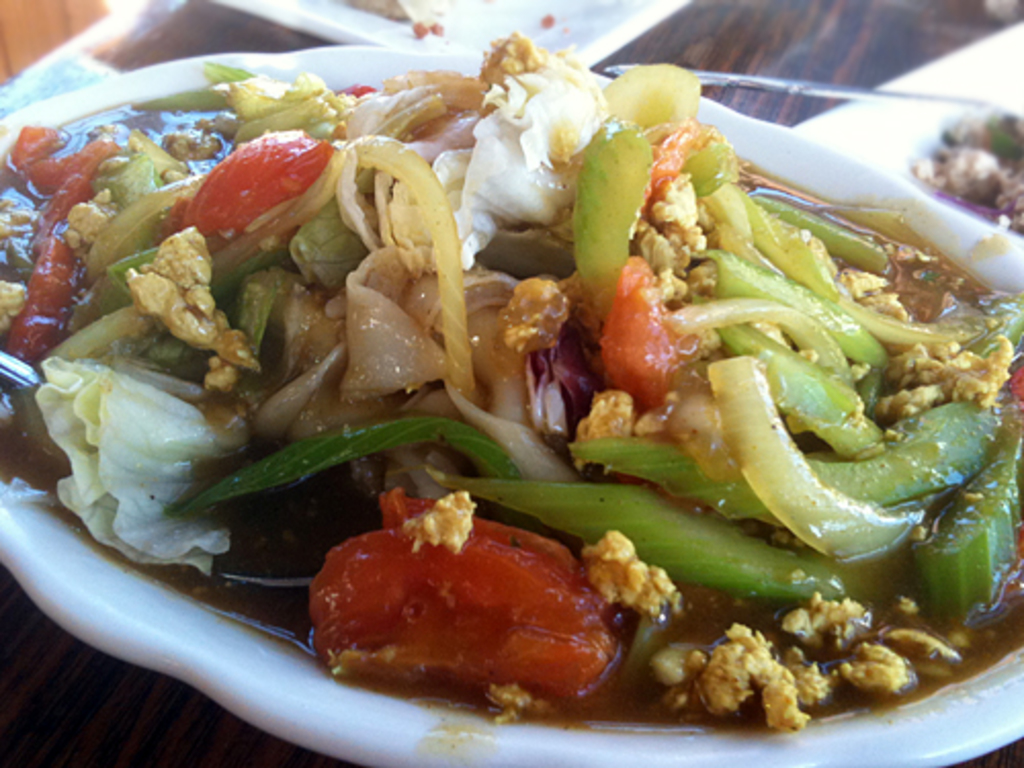salad: (0, 27, 1022, 741)
